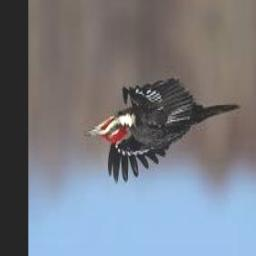Woodpecker: (83, 78, 240, 184)
